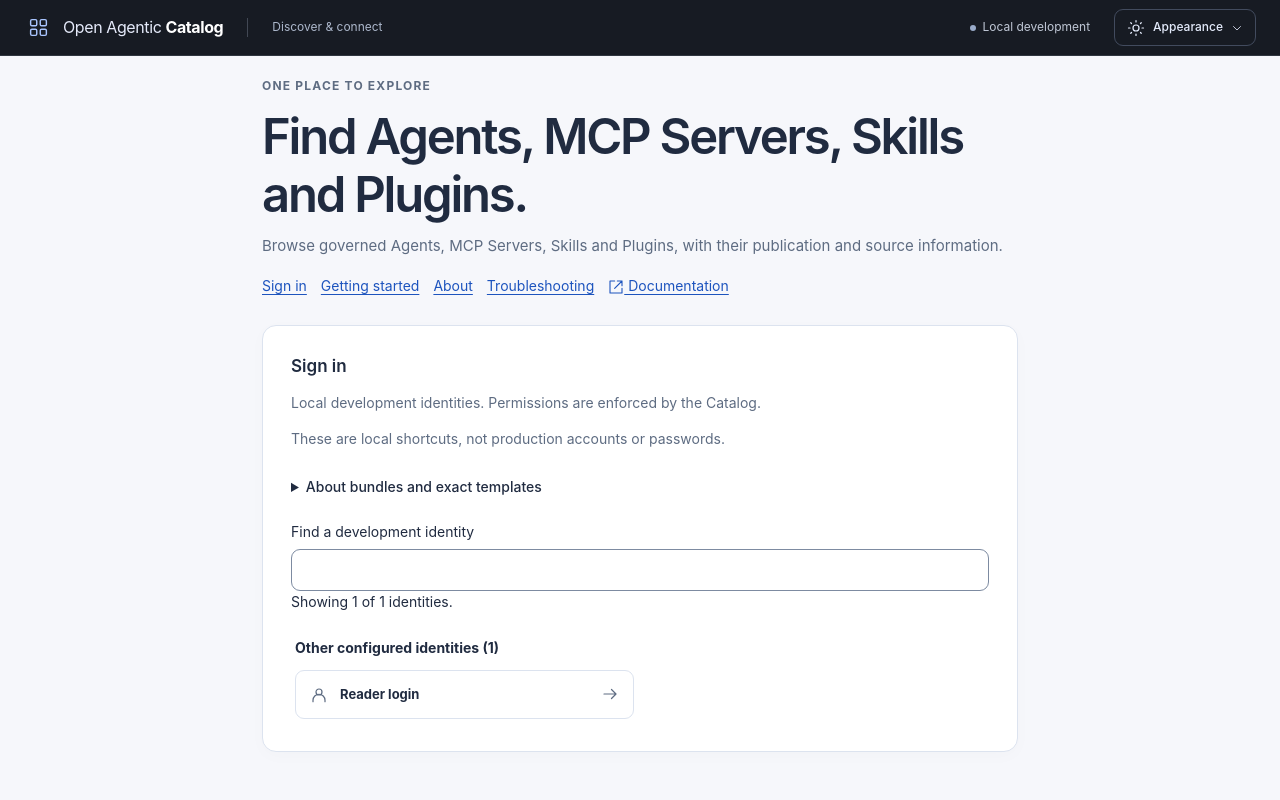
it: shell authentication › shows a safe failed login and releases its busy state: {}
(page scrolled)
Click the button "Reader login" at (380, 694), box [295,670,634,719]
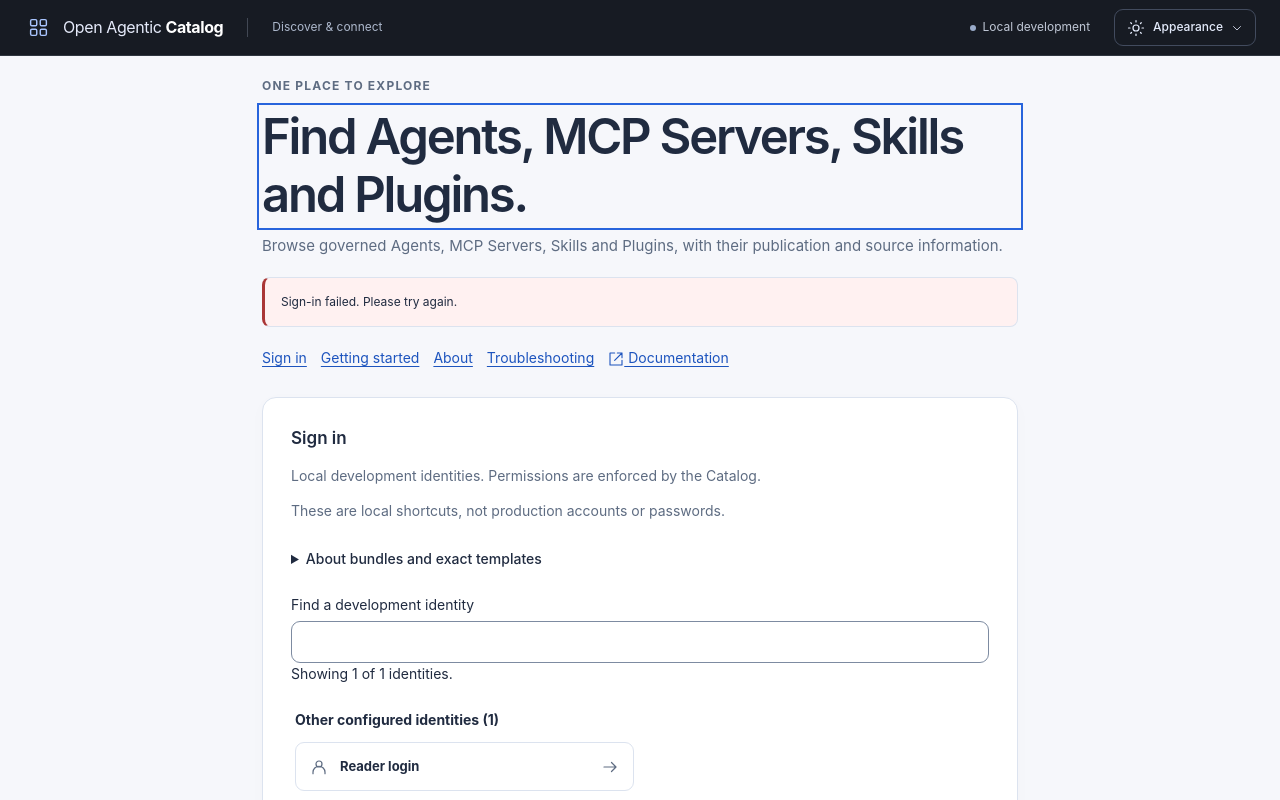
expect the button "Reader login" is enabled: met, box [295,742,634,791]
expect the message "Sign-in failed. Please try again." is shown: met, box [262,277,1018,327]
